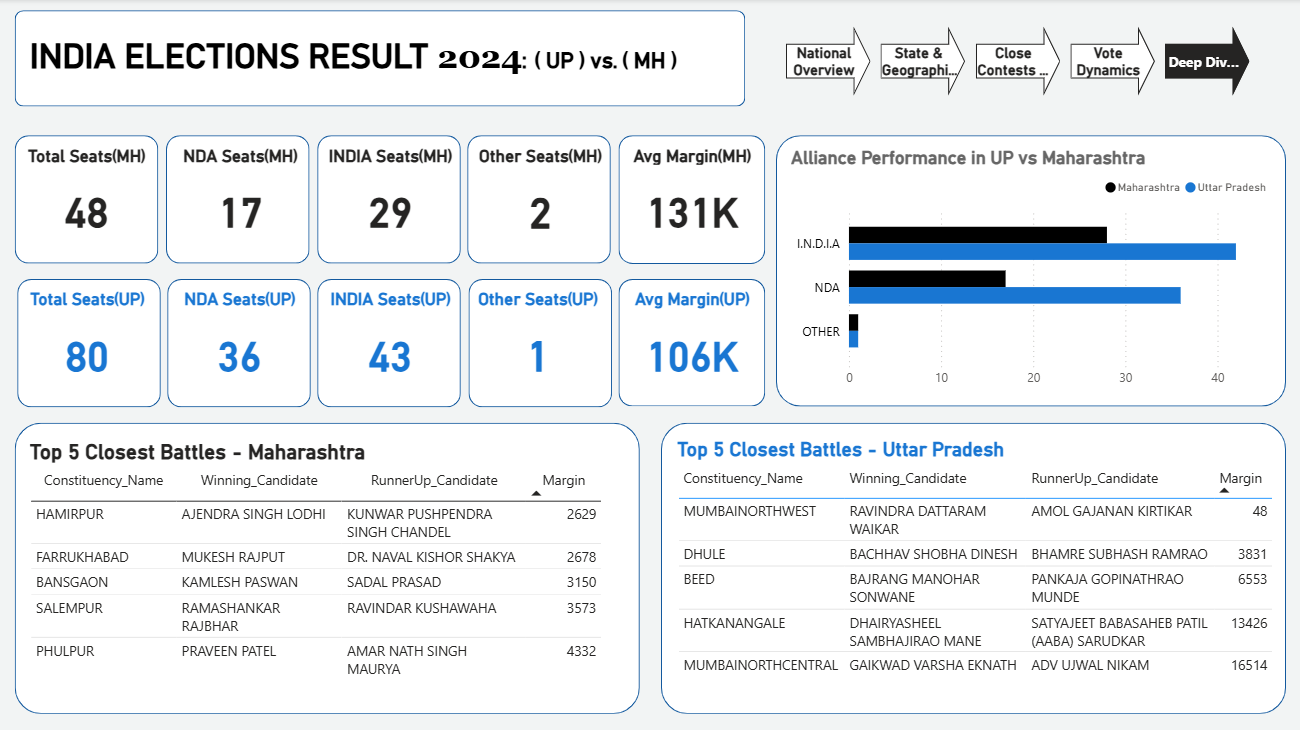

Layout of this report page (visuals, bound fields, positions):
{"tool":"powerbi","page":{"name":"Deep Dive: Uttar Pradesh vs. Maharashtra","canvas":[1280,720],"ordinal":4},"visuals":[{"type":"shape","box":[18.4,10.8,717.1,94.5],"z":0},{"type":"pageNavigator","box":[775.2,27,456.5,68.9],"z":1000},{"type":"shape","box":[18.4,416,613.5,285.9],"z":2000},{"type":"shape","box":[652.8,416,613.5,285.9],"z":3000},{"type":"tableEx","title":"Top 5 Closest Battles - Maharashtra","fields":{"Values":["vw_constituency_analysis.Constituency_Name","vw_constituency_analysis.Winning_Candidate","vw_constituency_analysis.RunnerUp_Candidate","vw_constituency_analysis.Margin"]},"box":[28.2,431.9,603.7,258.9],"z":4000},{"type":"tableEx","title":"Top 5 Closest Battles - Uttar Pradesh","fields":{"Values":["vw_constituency_analysis.Constituency_Name","vw_constituency_analysis.Winning_Candidate","vw_constituency_analysis.RunnerUp_Candidate","vw_constituency_analysis.Margin"]},"box":[663.8,430.7,616,260.1],"z":5000},{"type":"shape","box":[765.6,133.7,500.6,266.3],"z":6000},{"type":"clusteredBarChart","title":"Alliance Performance in UP vs Maharashtra","fields":{"Category":["vw_state_alliance_analysis.party_alliance"],"Y":["vw_state_alliance_analysis.Seats_Won"],"Series":["vw_state_alliance_analysis.State"]},"box":[775.5,144.8,481,245.4],"z":7000},{"type":"shape","box":[18.4,133.7,141,126],"z":8000},{"type":"shape","box":[20.4,274.3,141,126],"z":9000},{"type":"card","title":"Total Seats(UP)","fields":{"Values":["vw_alliance_summary.UP_Total_Seats"]},"box":[18.4,284.7,142.3,105.5],"z":10000},{"type":"card","title":"Total Seats(MH)","fields":{"Values":["vw_alliance_summary.MH_Total_Seats"]},"box":[20.9,143.6,136.2,105.5],"z":11000},{"type":"shape","box":[166.6,133.7,141,126],"z":12000},{"type":"shape","box":[168.1,274.3,141,126],"z":13000},{"type":"card","title":"NDA Seats(MH)","fields":{"Values":["vw_alliance_summary.NDA Seats (MH)"]},"box":[168.1,143.6,143.6,105.5],"z":14000},{"type":"card","title":"NDA Seats(UP)","fields":{"Values":["vw_alliance_summary.NDA Seats (UP)"]},"box":[168.1,284.7,142.3,105.5],"z":15000},{"type":"shape","box":[314.8,133.7,141,126],"z":16000},{"type":"shape","box":[463.1,133.7,141,126],"z":17000},{"type":"card","title":"INDIA Seats(MH)","fields":{"Values":["vw_alliance_summary.INDIA Seats (MH)"]},"box":[315.3,143.6,143.6,105.5],"z":18000},{"type":"shape","box":[315.8,274.3,141,126],"z":19000},{"type":"shape","box":[463.6,274.3,141,126],"z":20000},{"type":"card","title":"INDIA Seats(UP)","fields":{"Values":["vw_alliance_summary.INDIA Seats (UP)"]},"box":[315.3,284.7,143.6,105.5],"z":21000},{"type":"textbox","box":[28.2,31.9,829.5,57.7],"z":22000},{"type":"shape","box":[611.3,274.8,144,125.2],"z":23000},{"type":"shape","box":[611.3,133.7,144,126.4],"z":24000},{"type":"card","title":"Avg Margin(MH)","fields":{"Values":["vw_alliance_summary.Average Margin (MH)"]},"box":[612.3,143.6,142.3,105.5],"z":25000},{"type":"card","title":"Avg Margin(UP)","fields":{"Values":["vw_alliance_summary.Average Margin (UP)"]},"box":[612.3,284.7,142.3,105.5],"z":26000},{"type":"card","title":"Other Seats(UP)","fields":{"Values":["vw_alliance_summary.Other Seats(UP)"]},"box":[460.1,284.7,143.6,105.5],"z":27000},{"type":"card","title":"Other Seats(MH)","fields":{"Values":["vw_alliance_summary.Other Seats(MH)"]},"box":[458.9,143.6,150.9,105.5],"z":28000}]}

Visuals, with their boxes in screenshot pixels (x1, y1, x2, y2), scaled from the page's 1280x720 canvas onto the 1300x730 screenshot:
shape: [x1=19, y1=11, x2=747, y2=107]
pageNavigator: [x1=787, y1=27, x2=1251, y2=97]
shape: [x1=19, y1=422, x2=642, y2=712]
shape: [x1=663, y1=422, x2=1286, y2=712]
"Top 5 Closest Battles - Maharashtra" tableEx: [x1=29, y1=438, x2=642, y2=700]
"Top 5 Closest Battles - Uttar Pradesh" tableEx: [x1=674, y1=437, x2=1299, y2=700]
shape: [x1=778, y1=136, x2=1286, y2=406]
"Alliance Performance in UP vs Maharashtra" clusteredBarChart: [x1=788, y1=147, x2=1276, y2=396]
shape: [x1=19, y1=136, x2=162, y2=263]
shape: [x1=21, y1=278, x2=164, y2=406]
"Total Seats(UP)" card: [x1=19, y1=289, x2=163, y2=396]
"Total Seats(MH)" card: [x1=21, y1=146, x2=160, y2=253]
shape: [x1=169, y1=136, x2=312, y2=263]
shape: [x1=171, y1=278, x2=314, y2=406]
"NDA Seats(MH)" card: [x1=171, y1=146, x2=317, y2=253]
"NDA Seats(UP)" card: [x1=171, y1=289, x2=315, y2=396]
shape: [x1=320, y1=136, x2=463, y2=263]
shape: [x1=470, y1=136, x2=614, y2=263]
"INDIA Seats(MH)" card: [x1=320, y1=146, x2=466, y2=253]
shape: [x1=321, y1=278, x2=464, y2=406]
shape: [x1=471, y1=278, x2=614, y2=406]
"INDIA Seats(UP)" card: [x1=320, y1=289, x2=466, y2=396]
textbox: [x1=29, y1=32, x2=871, y2=91]
shape: [x1=621, y1=279, x2=767, y2=406]
shape: [x1=621, y1=136, x2=767, y2=264]
"Avg Margin(MH)" card: [x1=622, y1=146, x2=766, y2=253]
"Avg Margin(UP)" card: [x1=622, y1=289, x2=766, y2=396]
"Other Seats(UP)" card: [x1=467, y1=289, x2=613, y2=396]
"Other Seats(MH)" card: [x1=466, y1=146, x2=619, y2=253]
